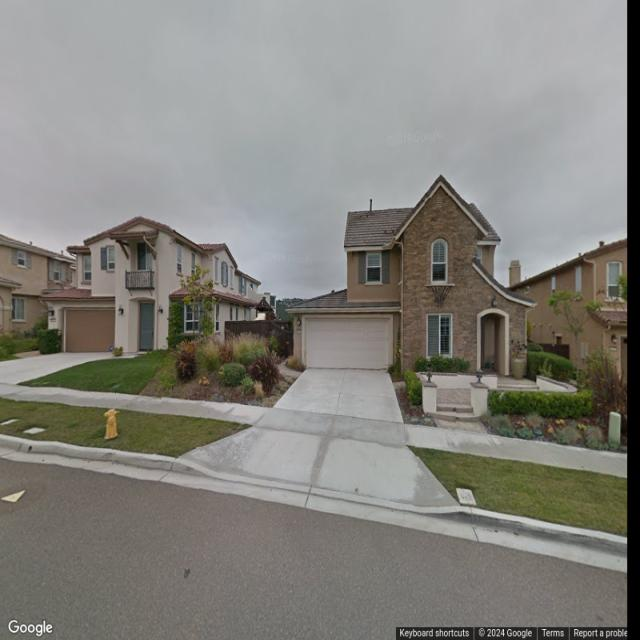House: (284, 174, 538, 377), (39, 217, 276, 355), (505, 238, 627, 381), (0, 233, 76, 332)
